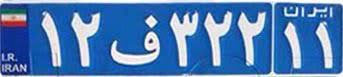character: (106, 10, 165, 69), (67, 7, 105, 71), (166, 6, 200, 71), (201, 7, 236, 70), (235, 5, 268, 70), (35, 7, 65, 70), (279, 20, 306, 72), (310, 20, 337, 72)
